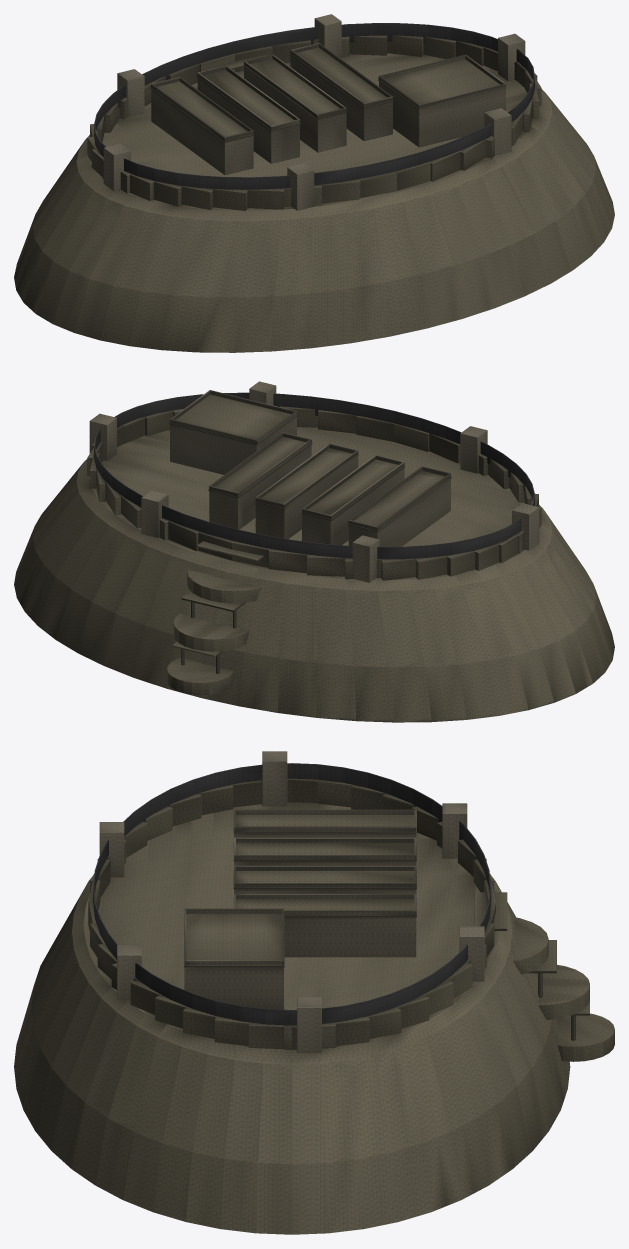
Rendered from masada.glb.
3 renders of one model, top to bottom at view 1: azimuth 30°, elevation 25°; view 2: azimuth 150°, elevation 25°; view 3: azimuth 270°, elevation 25°, orthographic. The views are drawn at different scales.
Parts seen in each view (by area): view 1: LOD0, LOD0.001; view 2: LOD0, LOD0.001, LOD0.002; view 3: LOD0, LOD0.001, LOD0.002.
Boxes of the visible parts, bbox=[...] form: LOD0: bbox=[14, 14, 614, 352]; LOD0.001: bbox=[150, 43, 506, 175]; LOD0: bbox=[14, 381, 614, 722]; LOD0.001: bbox=[169, 390, 451, 546]; LOD0.002: bbox=[167, 541, 263, 694]; LOD0: bbox=[14, 751, 570, 1234]; LOD0.001: bbox=[184, 809, 416, 1009]; LOD0.002: bbox=[474, 892, 614, 1061].
Size of what is drawn, in the model's own units: 9.6 by 2.6 by 7.26.
2 materials, 2 textured.
